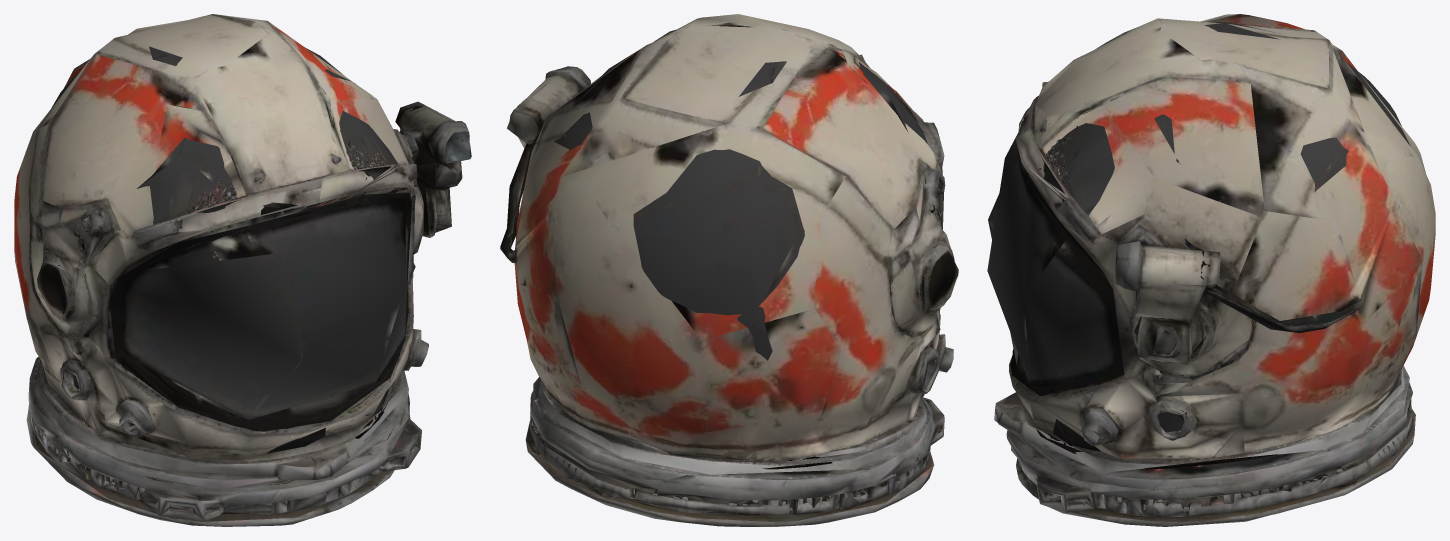
File: helmet-trellis.glb
3 renders of one model, left to right at view 1: azimuth 30°, elevation 25°; view 2: azimuth 150°, elevation 25°; view 3: azimuth 270°, elevation 25°, orthographic. The views are drawn at different scales.
Bounding box in the file's own units: 0.9972 × 0.9899 × 0.9306.
1 material, 1 textured.
